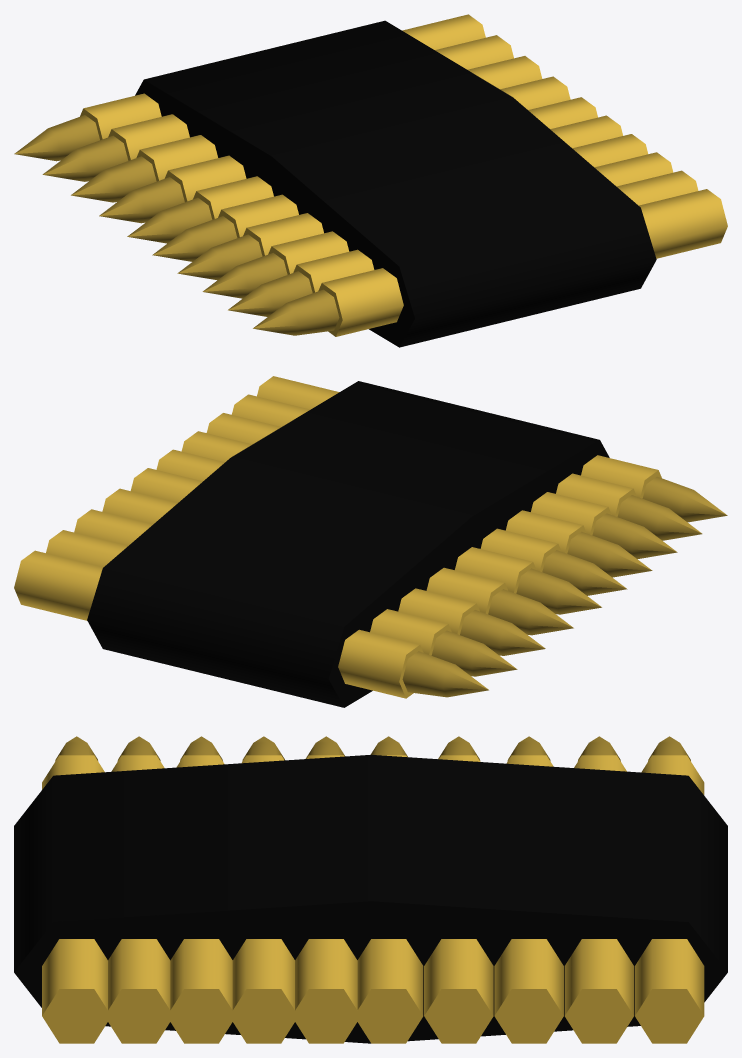
Rendered from Ammo.FBX.
3 views of the same model, one above another, from view 1: azimuth 30°, elevation 25°; view 2: azimuth 150°, elevation 25°; view 3: azimuth 270°, elevation 25° (orthographic). The views are drawn at different scales.
Visible parts, largest first — view 1: Cylinder12, Cylinder02, Cylinder11, Cylinder10, Cylinder09, Cylinder03, Cylinder08, Cylinder04, Cylinder05, Cylinder06, Cylinder07, Cone01 (+9 smaller); view 2: Cylinder12, Cylinder11, Cylinder10, Cylinder09, Cylinder08, Cylinder07, Cylinder02, Cylinder03, Cylinder04, Cylinder06, Cylinder05, Cone10 (+9 smaller); view 3: Cylinder12, Cylinder11, Cylinder02, Cylinder10, Cylinder09, Cylinder03, Cylinder08, Cylinder04, Cylinder05, Cylinder07, Cylinder06.
Part boxes in pixels (<box>): Cylinder12: <box>135,20,656,347</box>; Cylinder02: <box>318,189,727,336</box>; Cylinder11: <box>80,14,485,140</box>; Cylinder10: <box>108,35,513,160</box>; Cylinder09: <box>136,56,542,181</box>; Cylinder03: <box>293,170,698,292</box>; Cylinder08: <box>164,76,570,202</box>; Cylinder04: <box>268,152,673,274</box>; Cylinder05: <box>243,134,647,256</box>; Cylinder06: <box>218,115,622,237</box>; Cylinder07: <box>193,97,597,219</box>; Cone01: <box>253,289,339,335</box>; Cylinder12: <box>87,381,609,707</box>; Cylinder11: <box>14,550,423,698</box>; Cylinder10: <box>46,530,451,655</box>; Cylinder09: <box>74,509,479,634</box>; Cylinder08: <box>102,488,507,614</box>; Cylinder07: <box>130,468,536,593</box>; Cylinder02: <box>257,376,661,498</box>; Cylinder03: <box>231,394,636,516</box>; Cylinder04: <box>206,413,611,535</box>; Cylinder06: <box>156,449,561,571</box>; Cylinder05: <box>181,431,586,553</box>; Cone10: <box>402,651,488,697</box>; Cylinder12: <box>14,754,727,1043</box>; Cylinder11: <box>634,755,704,1043</box>; Cylinder02: <box>42,755,111,1043</box>; Cylinder10: <box>564,755,633,1043</box>; Cylinder09: <box>494,755,563,1043</box>; Cylinder03: <box>105,755,173,1043</box>; Cylinder08: <box>424,755,493,1043</box>; Cylinder04: <box>167,755,235,1043</box>; Cylinder05: <box>229,755,297,1043</box>; Cylinder07: <box>354,755,423,1043</box>; Cylinder06: <box>291,755,359,1043</box>.
Size of the model in its own units: 74.06 by 17.57 by 79.82.
